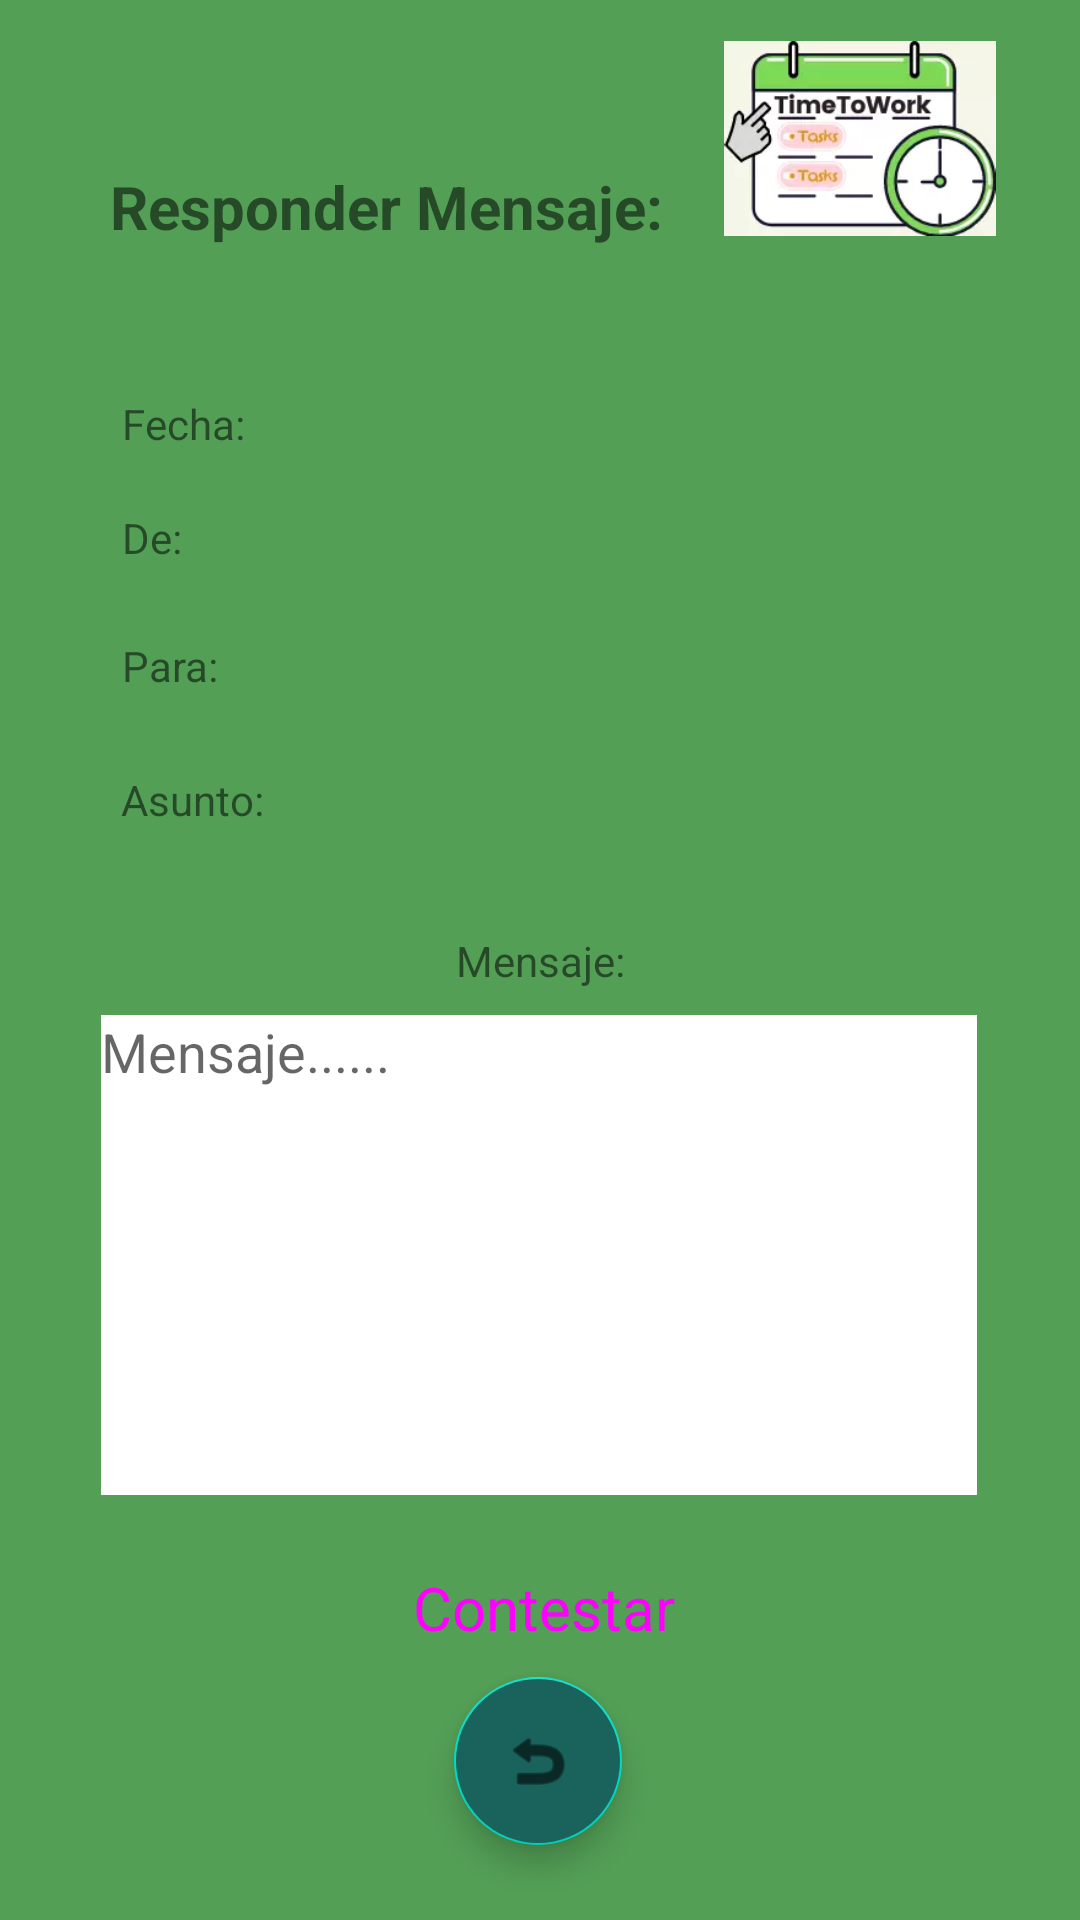

Icon click points for this 1080×1920 phone screenshot, format [x,y]:
Volver: [538,1761]
